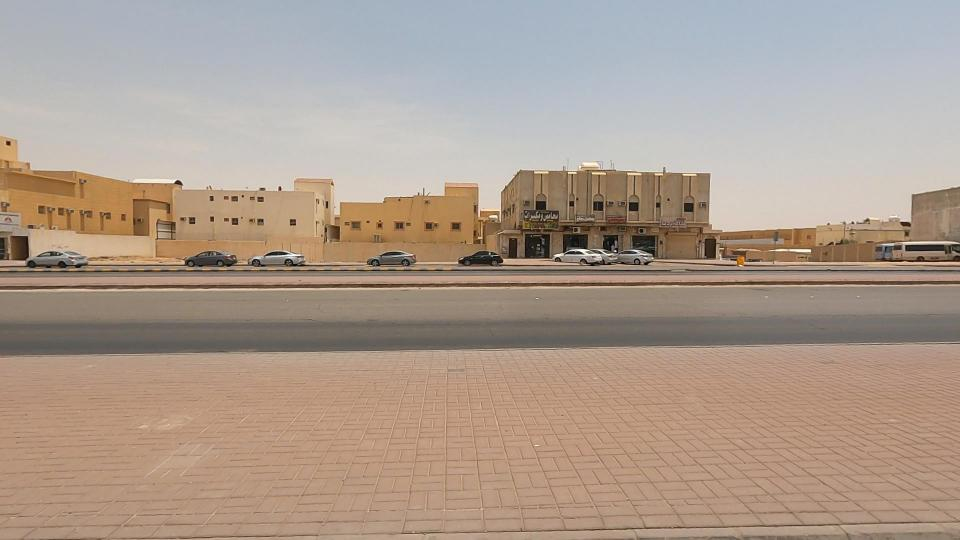GARBAGE: (720, 253, 759, 280)
